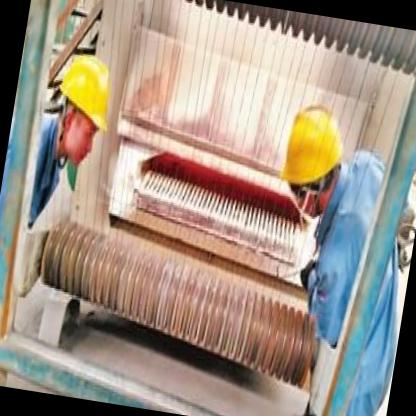helmet: (264, 88, 350, 220), (41, 41, 124, 175)
